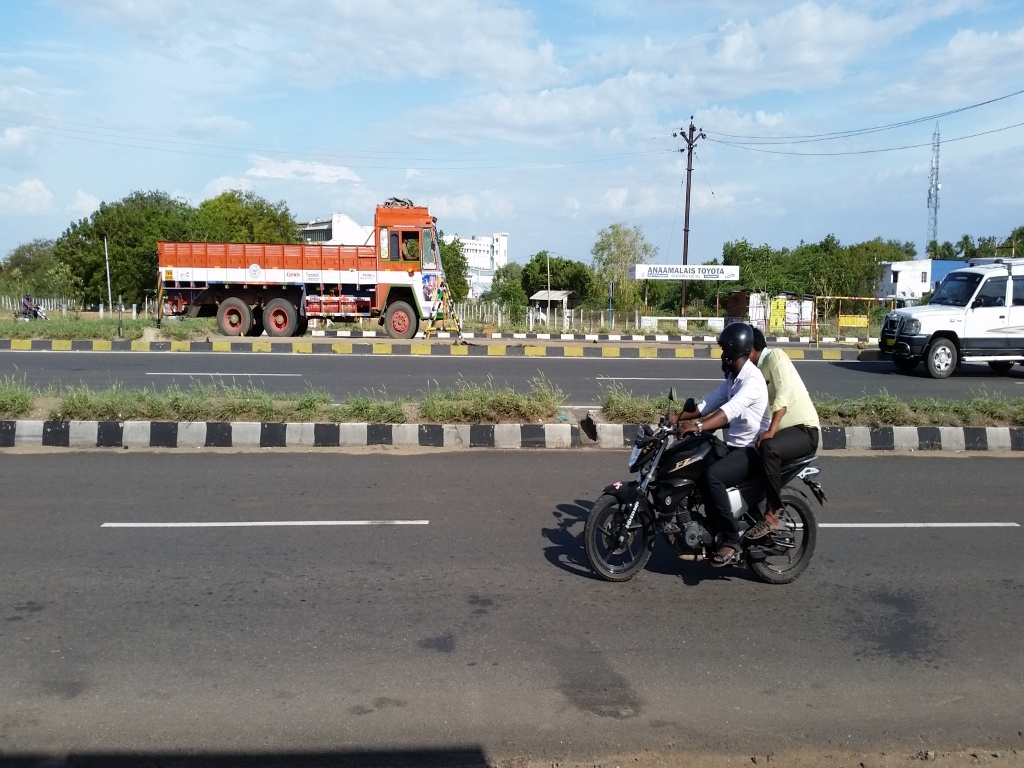biker: (572, 288, 853, 600)
helmet: (706, 321, 753, 385)
nohelmet: (750, 322, 776, 373)
